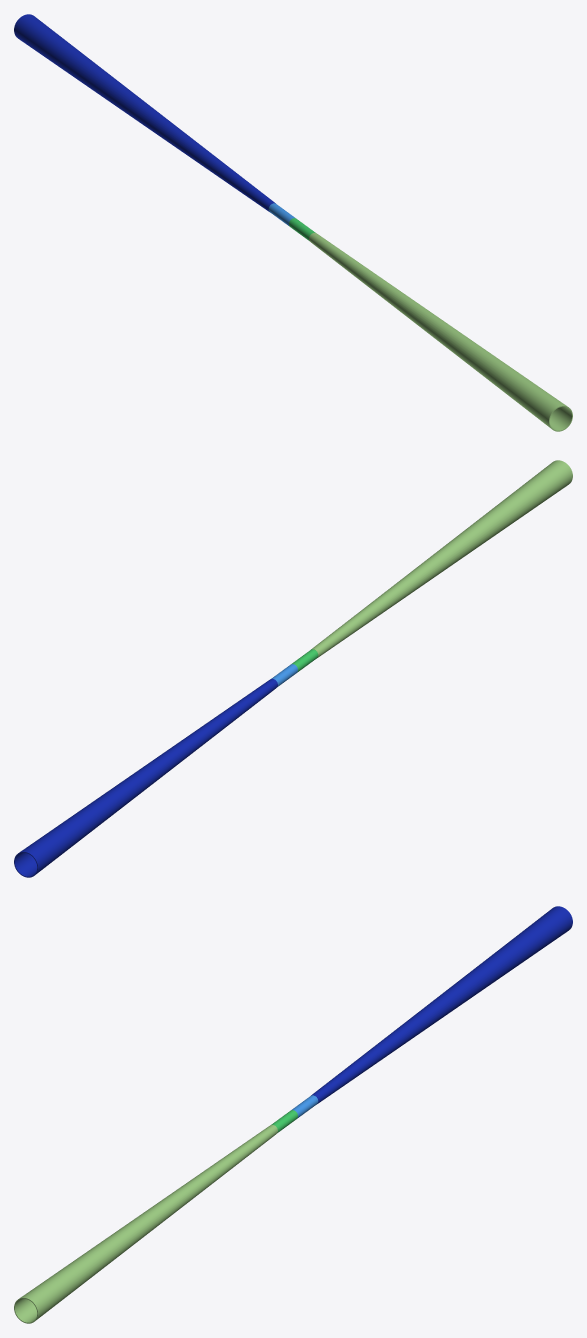
The model's file is ALLEGRO_o2_v01.gltf.
3 views of the same model, one above another, from view 1: azimuth 30°, elevation 25°; view 2: azimuth 150°, elevation 25°; view 3: azimuth 330°, elevation 25° (orthographic).
Parts seen in each view (by area): view 1: tube_AlBeMet162_wall_6, tube_AlBeMet162_wall2_7; view 2: tube_AlBeMet162_wall2_7, tube_AlBeMet162_wall_6; view 3: tube_AlBeMet162_wall_6, tube_AlBeMet162_wall2_7.
Part boxes in pixels (<box>): tube_AlBeMet162_wall_6: <box>309,232,572,431</box>; tube_AlBeMet162_wall2_7: <box>14,14,275,211</box>; tube_AlBeMet162_wall2_7: <box>14,678,277,877</box>; tube_AlBeMet162_wall_6: <box>311,460,572,657</box>; tube_AlBeMet162_wall_6: <box>14,1124,277,1323</box>; tube_AlBeMet162_wall2_7: <box>311,906,572,1103</box>.
Size of the model in its own units: 6.18 by 6.15 by 238.
